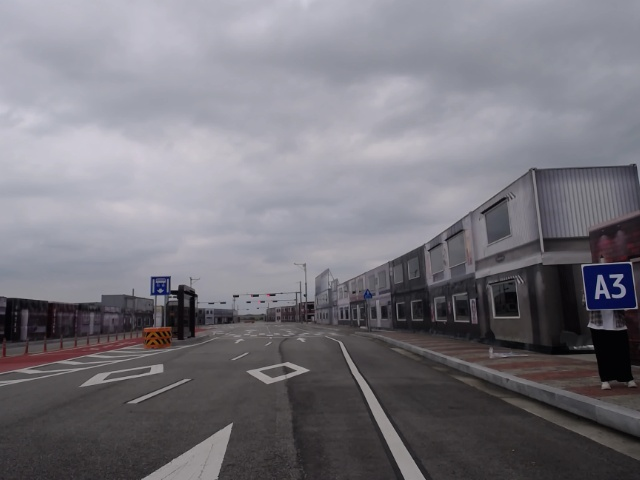delivery_a3: (582, 263, 638, 311)
